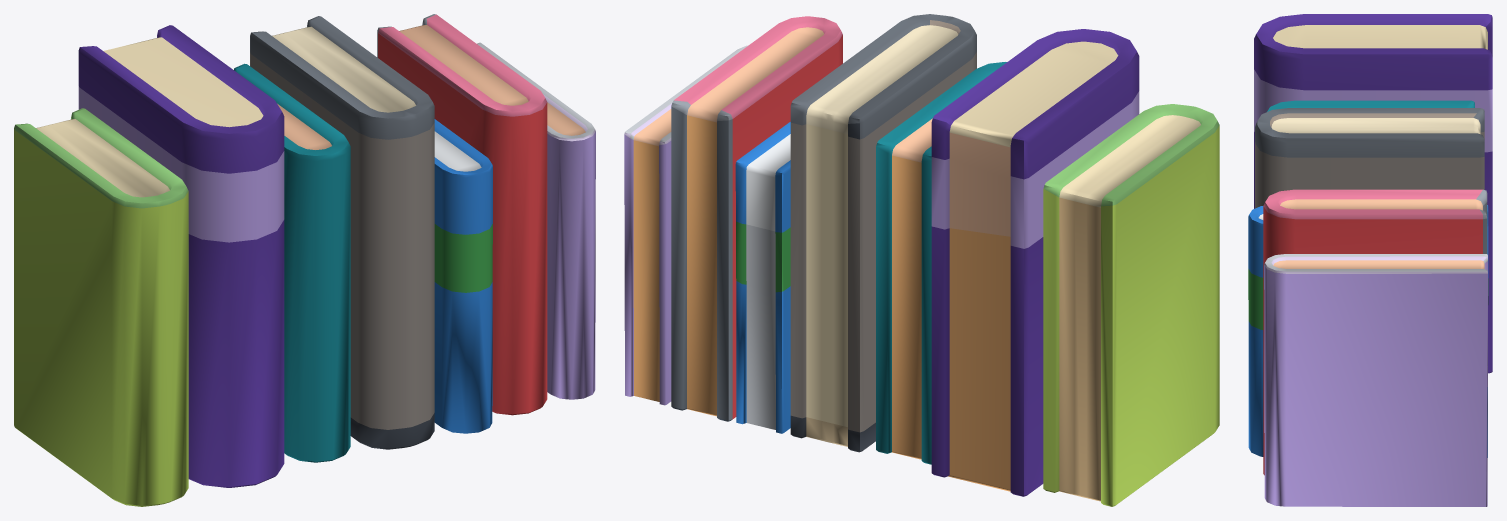
File: livros_natal_fileira_pacote.glb
3 renders of one model, left to right at view 1: azimuth 30°, elevation 25°; view 2: azimuth 150°, elevation 25°; view 3: azimuth 270°, elevation 25°, orthographic. The views are drawn at different scales.
Visible parts, largest first — view 1: livros_natal_fileira_pacote; view 2: livros_natal_fileira_pacote; view 3: livros_natal_fileira_pacote.
Part boxes in pixels (left/top/right/bottom): livros_natal_fileira_pacote: left=14, top=14, right=595, bottom=506; livros_natal_fileira_pacote: left=624, top=14, right=1219, bottom=506; livros_natal_fileira_pacote: left=1248, top=14, right=1492, bottom=506.
Bounding box in the file's own units: 0.3566 × 0.2531 × 0.1756.
Materials: 1 (1 with a texture image).
